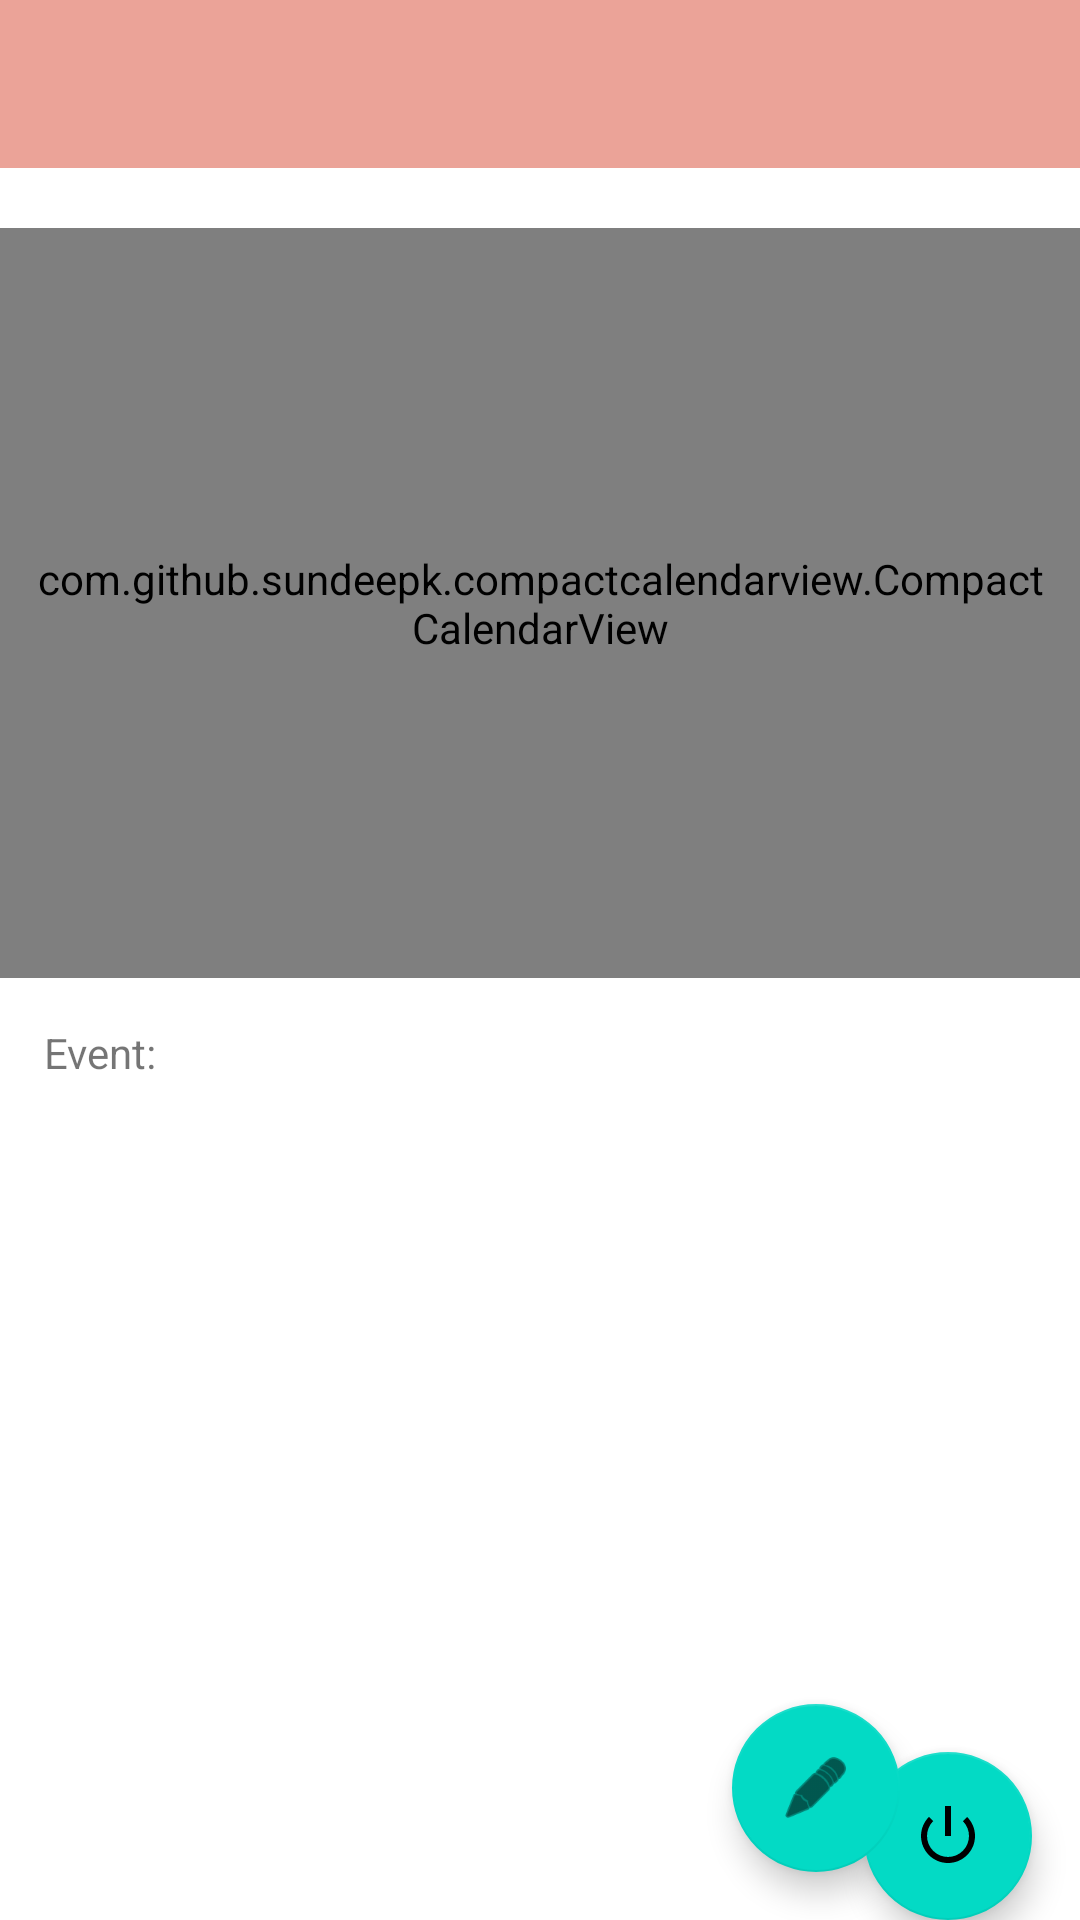

Locate icon controls on the screen. Image size 1080 × 1920, boxes as (x1, y1, x2, y2).
edit: (732, 1704, 900, 1872)
lock power off: (864, 1752, 1032, 1920)
